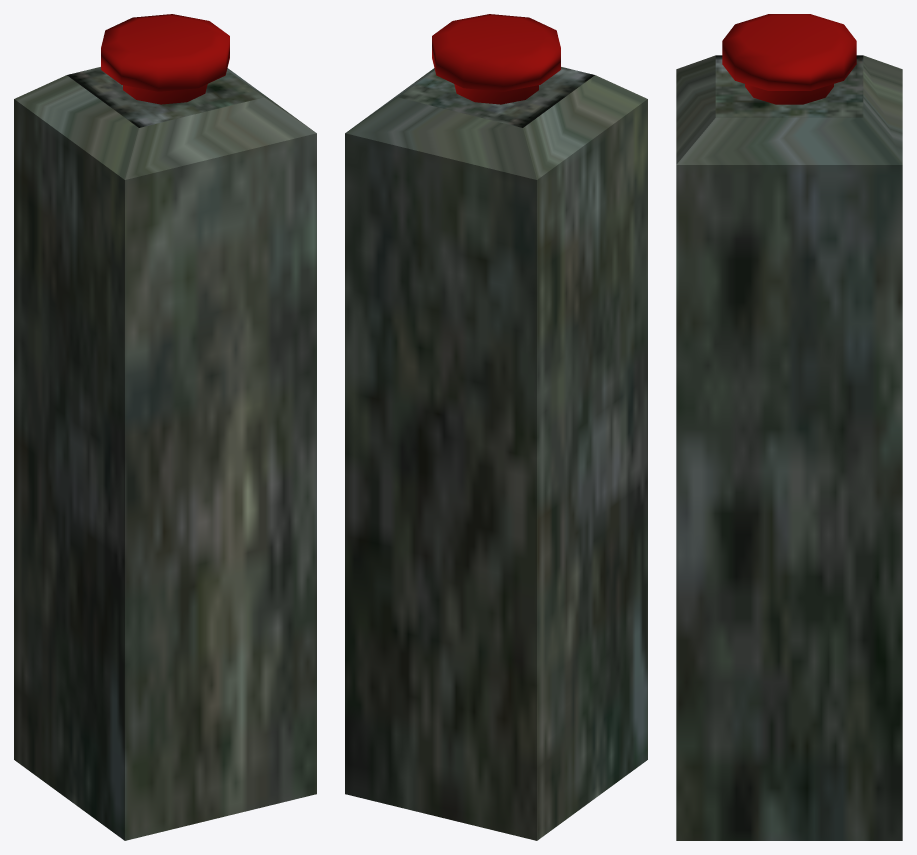
File: Redbutton.glb
3 renders of one model, left to right at view 1: azimuth 30°, elevation 25°; view 2: azimuth 150°, elevation 25°; view 3: azimuth 270°, elevation 25°, orthographic. The views are drawn at different scales.
Visible parts, largest first — view 1: Cube, Cylinder; view 2: Cube, Cylinder; view 3: Cube, Cylinder.
Part boxes in pixels (bbox=[...]): Cube: bbox=[14, 67, 316, 840]; Cylinder: bbox=[101, 14, 229, 104]; Cube: bbox=[345, 67, 647, 840]; Cylinder: bbox=[432, 14, 560, 104]; Cube: bbox=[676, 55, 902, 840]; Cylinder: bbox=[722, 14, 856, 104].
Size of the model in its own units: 0.2062 by 0.7604 by 0.2063.
2 materials, 1 textured.
